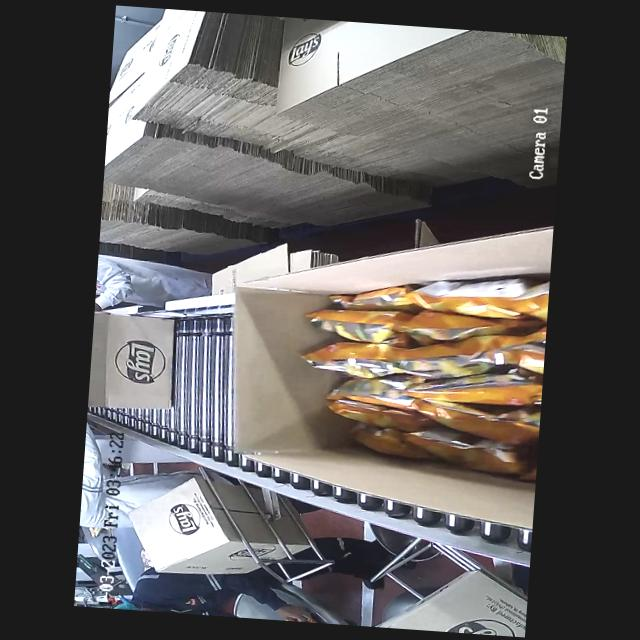cheese: (310, 252, 550, 486)
